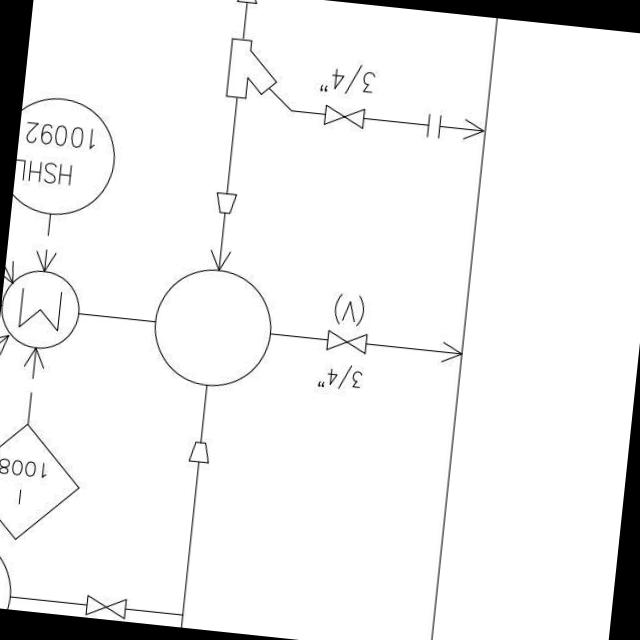GV: (79, 590, 131, 622), (318, 99, 367, 131), (320, 330, 370, 358)
M: (0, 265, 84, 353)
SP: (208, 186, 242, 218), (185, 434, 215, 468)
